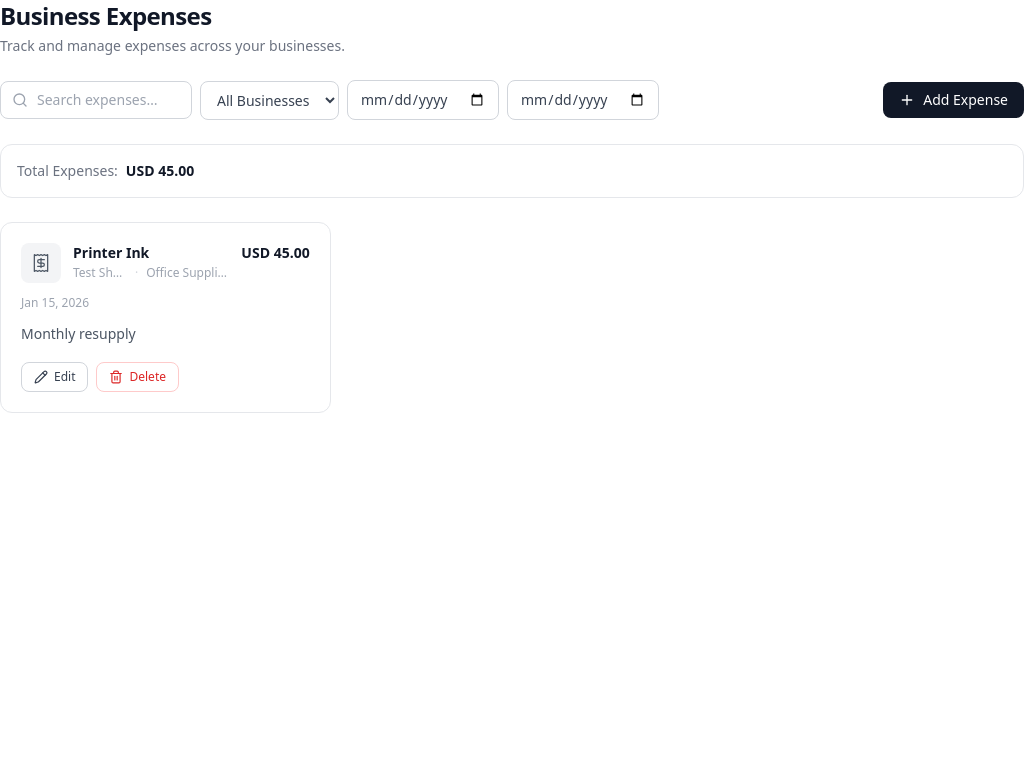
Test case: BusinessExpensesPage — delete › shows delete confirmation dialog
The width and height of the screenshot is (1024, 768).
Check: the heading "Printer Ink" is shown, box [73,243,149,262]
Click the button with aria-label "Delete Printer Ink" at (138, 377), box [96,362,179,392]
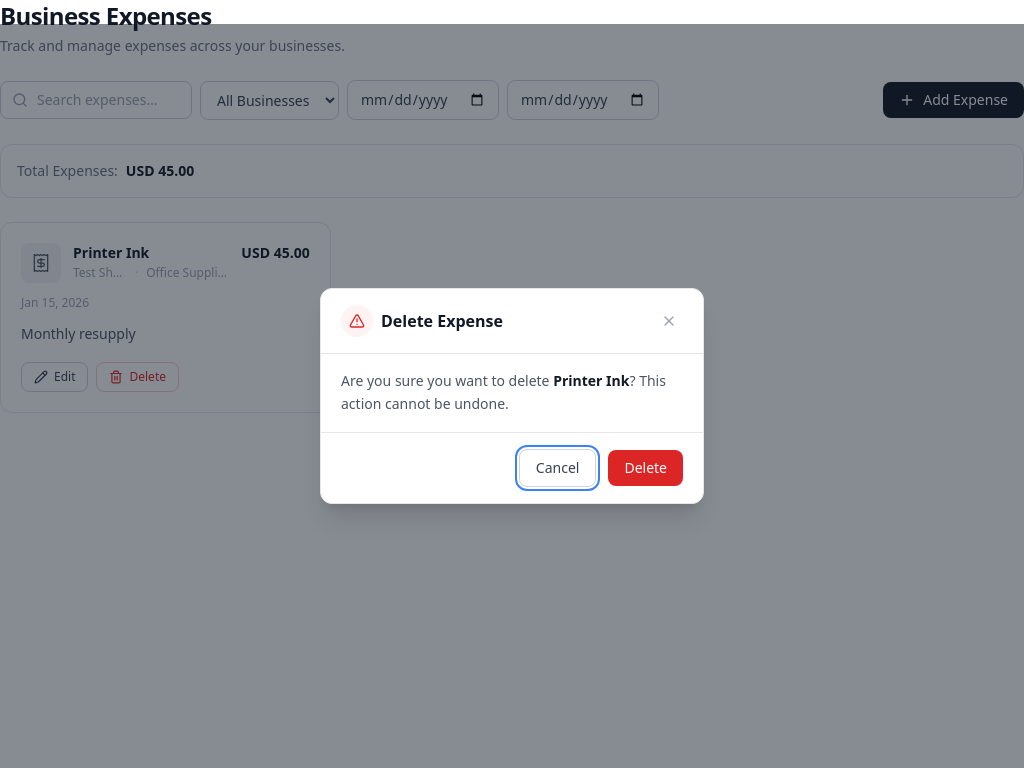
Check: the heading "Delete Expense" is shown, box [381,309,503,333]
Check: the text "Are you sure you want to delete" is shown, box [341,371,553,390]
